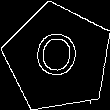O_S: (32, 29, 83, 87)
